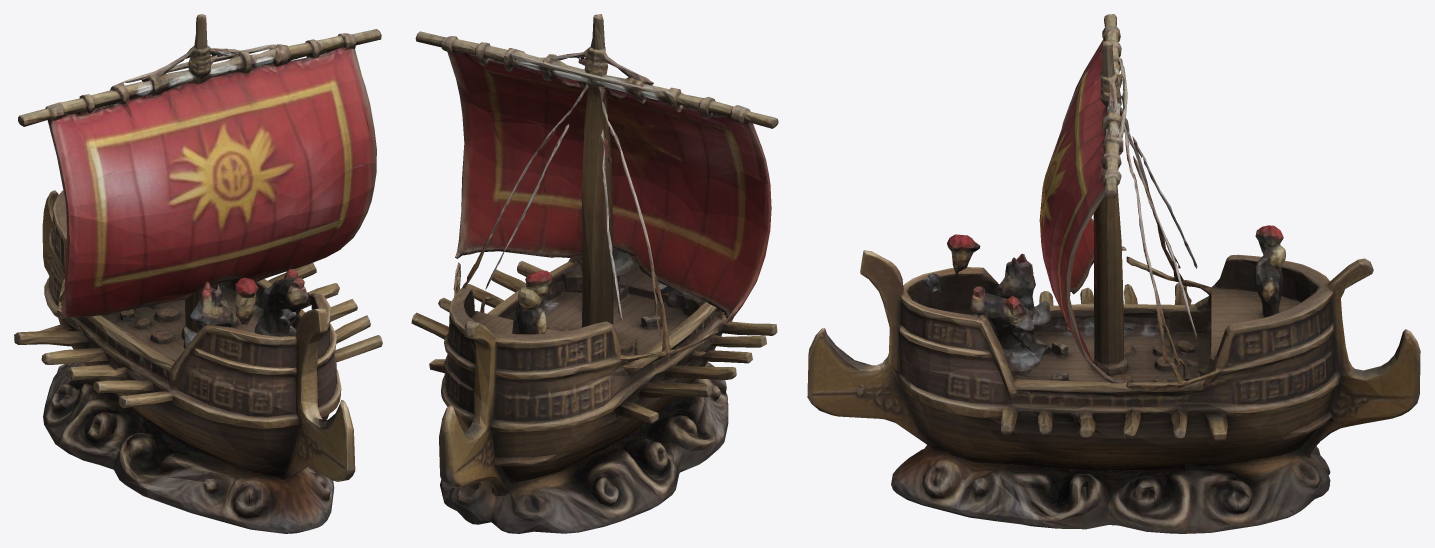
File: patrolGalley.glb
3 renders of one model, left to right at view 1: azimuth 30°, elevation 25°; view 2: azimuth 150°, elevation 25°; view 3: azimuth 270°, elevation 25°, orthographic.
Parts seen in each view (by area): view 1: world; view 2: world; view 3: world.
Boxes of the visible parts, bbox=[...] form: world: bbox=[14, 14, 382, 533]; world: bbox=[411, 14, 778, 533]; world: bbox=[807, 14, 1420, 533].
Size of the model in its own units: 0.6818 by 0.8007 by 0.9993.
Materials: 1 (1 with a texture image).
